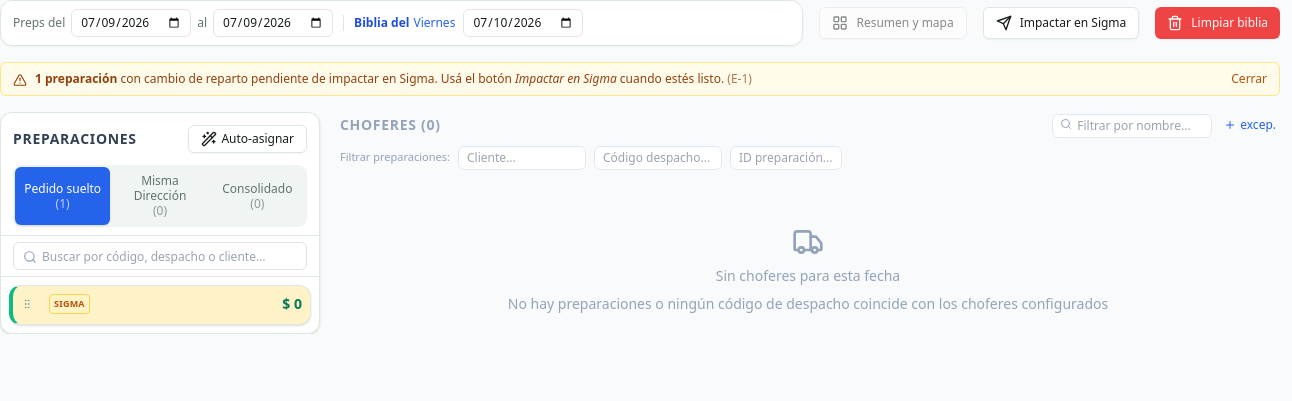
it: BibleDashboard — banners de estado Sigma › el aviso de error de impacto usa singular con exactamente 1
The width and height of the screenshot is (1292, 401).
Click the button "Impactar en Sigma" at (1061, 23), box 983,7 -> 1139,39
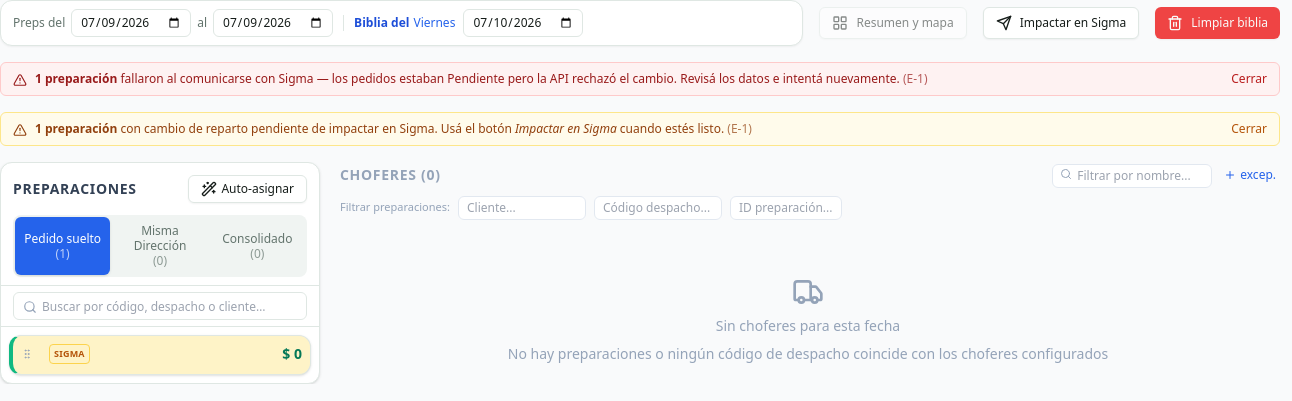
Check: the text "1 preparación fallaron al comunicarse con Sigma" is shown, box 35,70 -> 928,87
